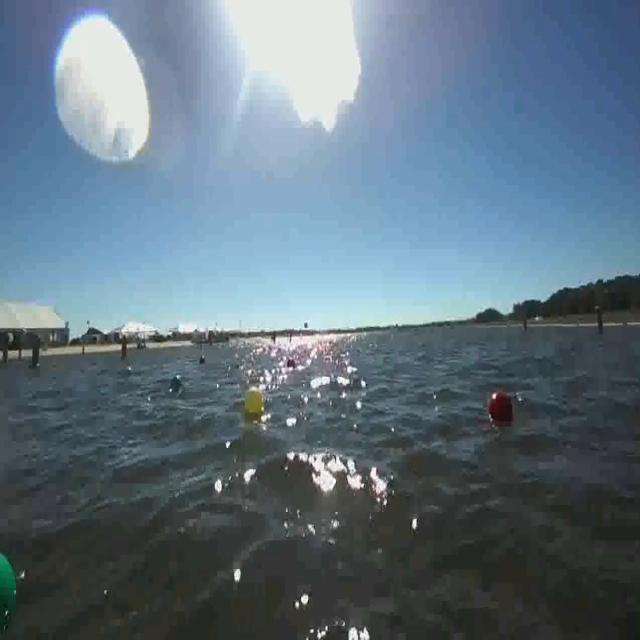green-buoy: (0, 547, 19, 636)
red-buoy: (486, 390, 514, 425)
yellow-buoy: (243, 387, 264, 418)
